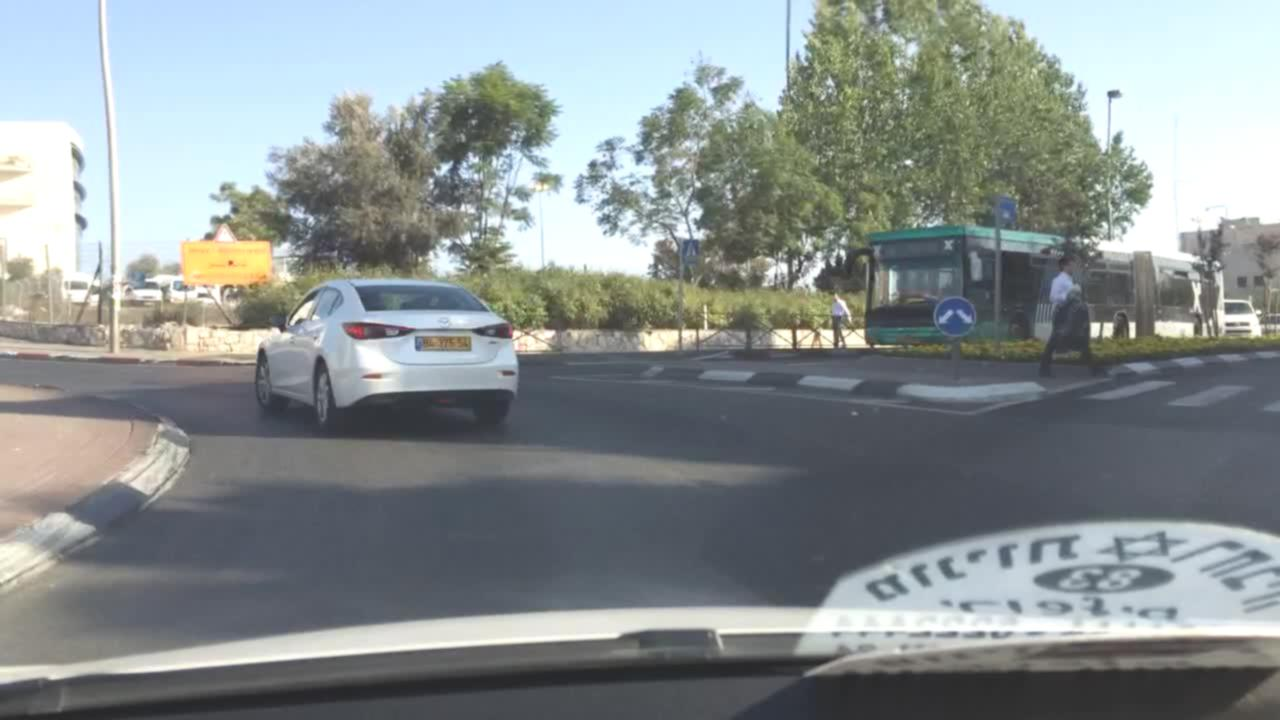Mazda: (434, 312, 455, 330)
